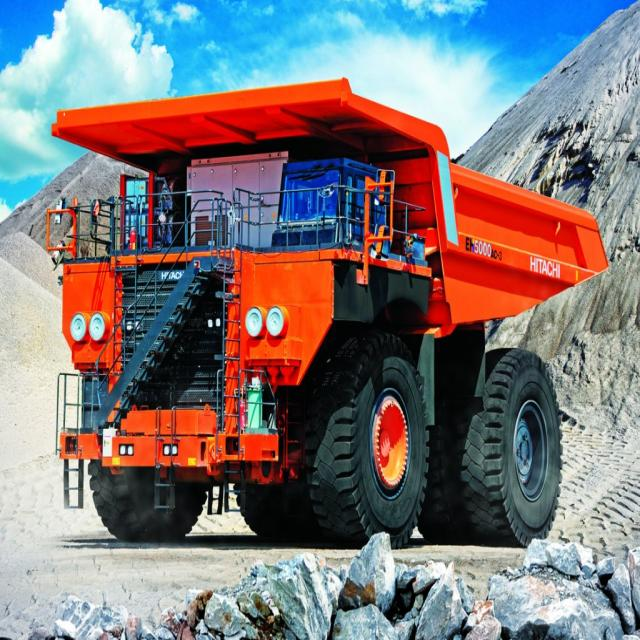dump_truck: (47, 78, 608, 542)
